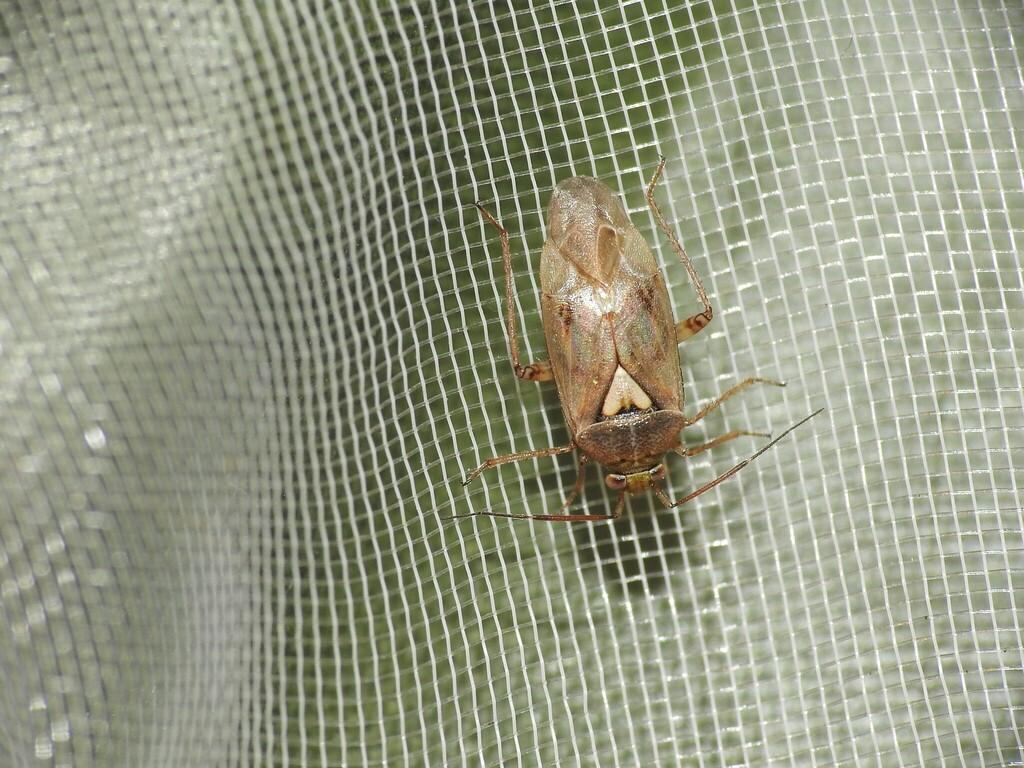plant_bugs: (406, 127, 853, 624)
